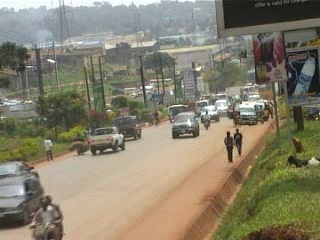Car: (0, 174, 50, 229), (0, 159, 42, 192), (170, 110, 201, 143), (199, 103, 220, 125)
Motorcycle: (27, 194, 66, 240), (68, 131, 93, 157), (201, 108, 211, 130)
